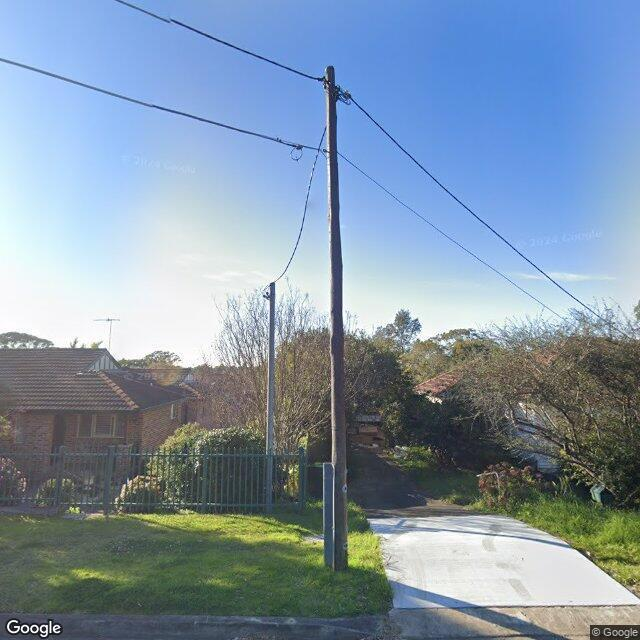steel-pole: (264, 282, 277, 512)
timber-pole: (325, 66, 349, 572)
